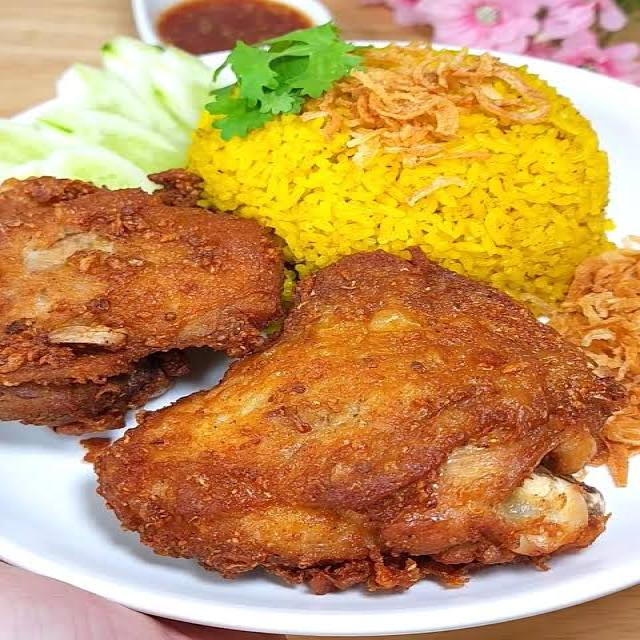carb: (215, 38, 616, 277)
chicken biryani: (0, 34, 640, 572)
meat: (228, 257, 602, 609), (0, 162, 265, 422)
vegetable: (23, 26, 198, 191)
